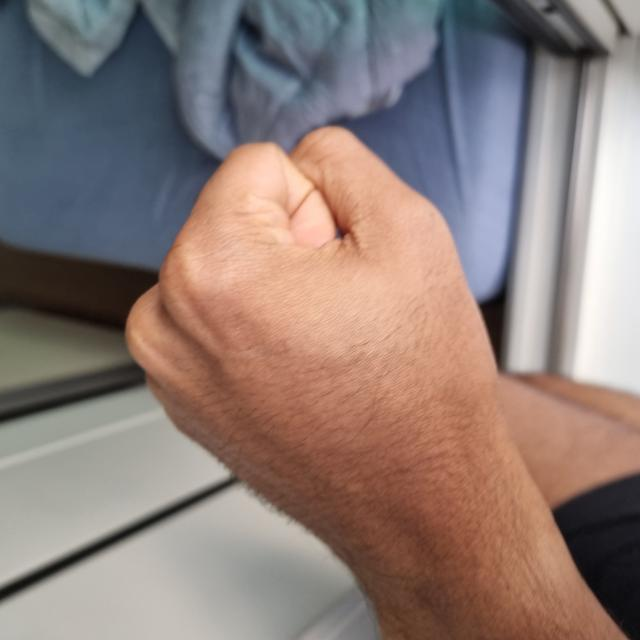Rock: (78, 125, 514, 506)
